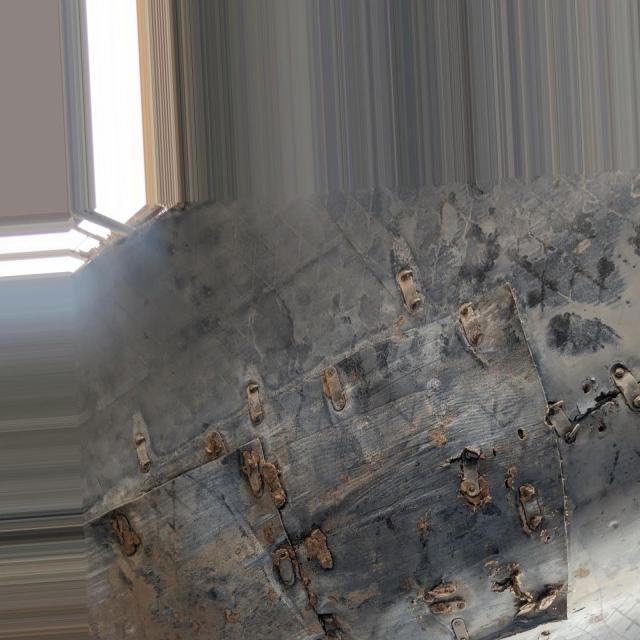patch work: (88, 251, 640, 640)
